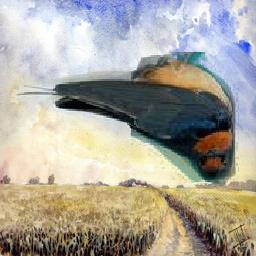Swallow: (16, 52, 240, 188)
